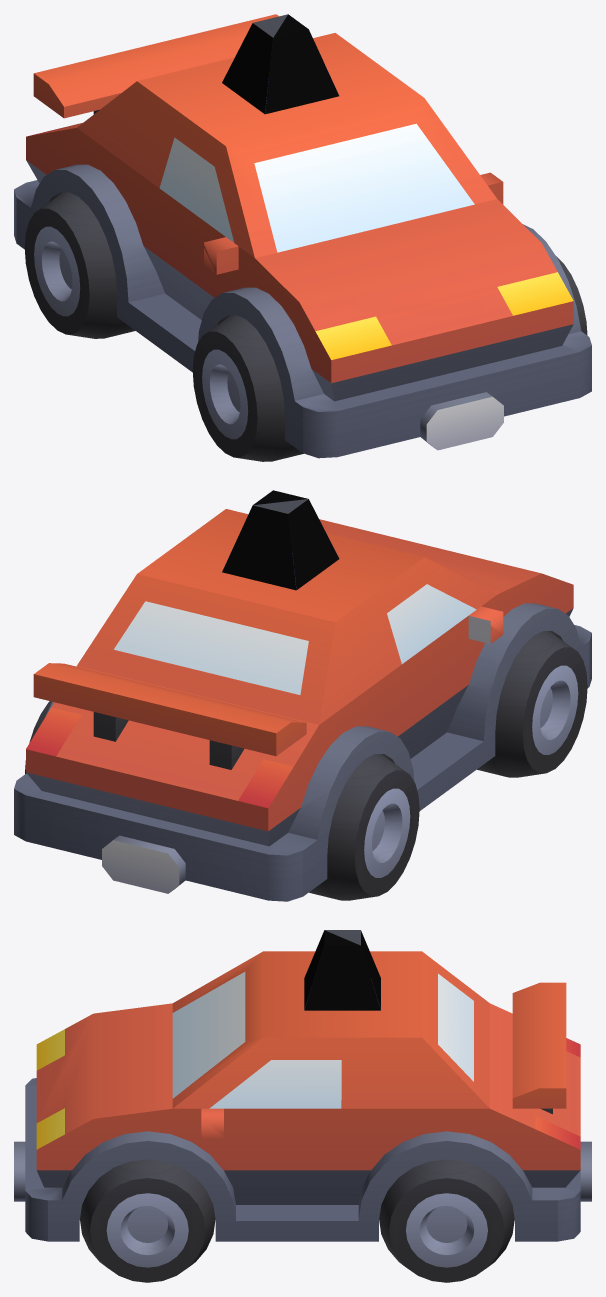
File: Car.fbx
3 renders of one model, top to bottom at view 1: azimuth 30°, elevation 25°; view 2: azimuth 150°, elevation 25°; view 3: azimuth 270°, elevation 25°, orthographic. The views are drawn at different scales.
Visible parts, largest first — view 1: car; view 2: car; view 3: car.
Part boxes in pixels (<box>): car: <box>14,14,591,461</box>; car: <box>14,490,591,901</box>; car: <box>14,930,591,1282</box>.
Size of the model in its own units: 1.5 by 1.38 by 2.55.
1 material, 1 textured.
